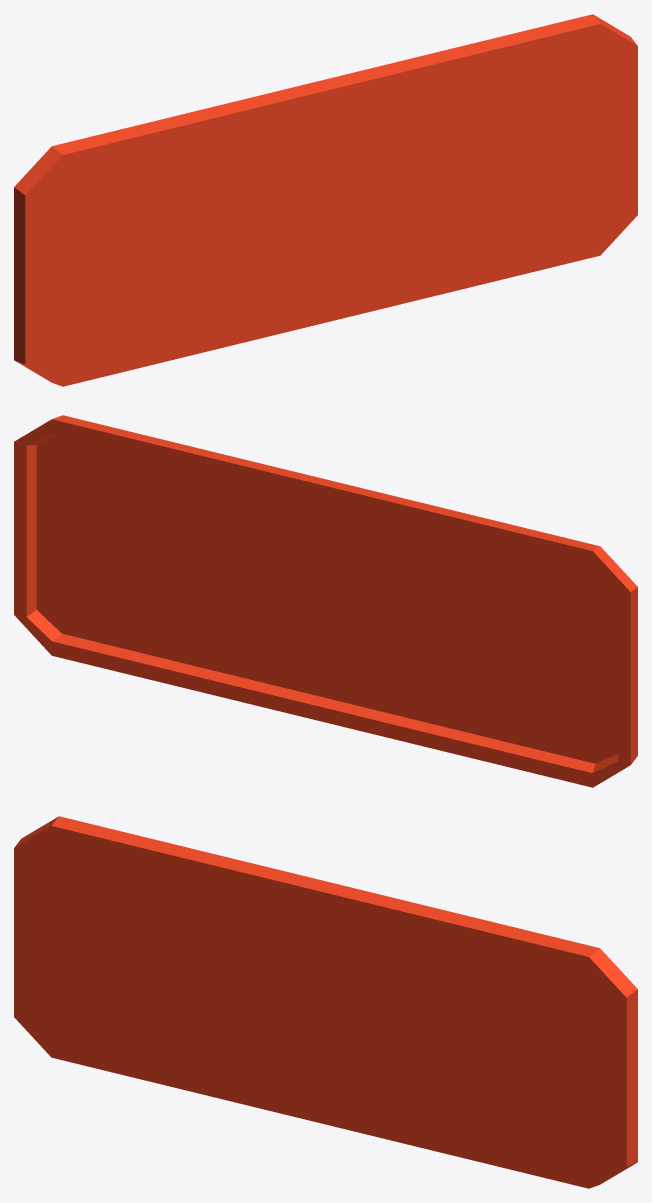
The model's file is SM_Sign_School_City.fbx.
3 views of the same model, one above another, from view 1: azimuth 30°, elevation 25°; view 2: azimuth 150°, elevation 25°; view 3: azimuth 330°, elevation 25° (orthographic).
Visible parts, largest first — view 1: SM_Sign_School_City; view 2: SM_Sign_School_City; view 3: SM_Sign_School_City.
Boxes of the visible parts, x1,y1,x2,y2 form: SM_Sign_School_City: (14, 14, 637, 386); SM_Sign_School_City: (14, 415, 637, 787); SM_Sign_School_City: (14, 816, 637, 1188).
Bounding box in the file's own units: 0.5866 × 0.215 × 0.0154.
